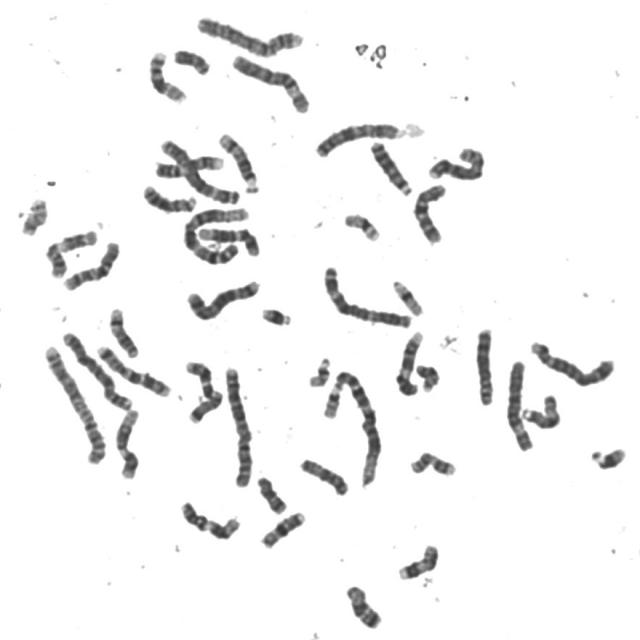A1: (339, 365, 383, 488), (179, 200, 253, 266)
A2: (38, 339, 109, 466), (219, 360, 254, 490)
A3: (317, 260, 415, 329), (156, 132, 242, 205)
B4: (57, 325, 136, 413), (192, 9, 306, 58)
B5: (525, 335, 617, 388), (182, 274, 262, 322)
C10: (58, 235, 122, 292), (408, 176, 450, 246)
C11: (40, 223, 100, 279), (174, 495, 243, 542)
C12: (109, 404, 143, 480), (194, 220, 261, 256)
C6: (226, 47, 313, 115), (501, 354, 537, 454)
C7: (92, 339, 174, 399), (180, 354, 223, 426)
C8: (423, 140, 488, 183), (470, 321, 496, 408)
C9: (391, 325, 426, 398), (149, 149, 227, 179)
D13: (365, 134, 414, 198), (138, 179, 199, 214)
D14: (213, 126, 260, 194), (104, 302, 141, 360)
D15: (295, 452, 351, 498), (517, 388, 562, 431)
E16: (144, 45, 188, 105), (255, 506, 308, 550)
E17: (393, 539, 441, 581), (404, 445, 458, 478)
E18: (340, 579, 384, 631), (251, 470, 289, 516)
F19: (387, 274, 425, 318), (338, 207, 383, 243)
F20: (16, 192, 50, 238), (411, 358, 442, 393)
G21: (586, 441, 629, 472), (256, 301, 294, 328)
G22: (325, 378, 350, 422), (303, 352, 333, 388)
X: (310, 117, 403, 159)
Y: (168, 41, 212, 76)
